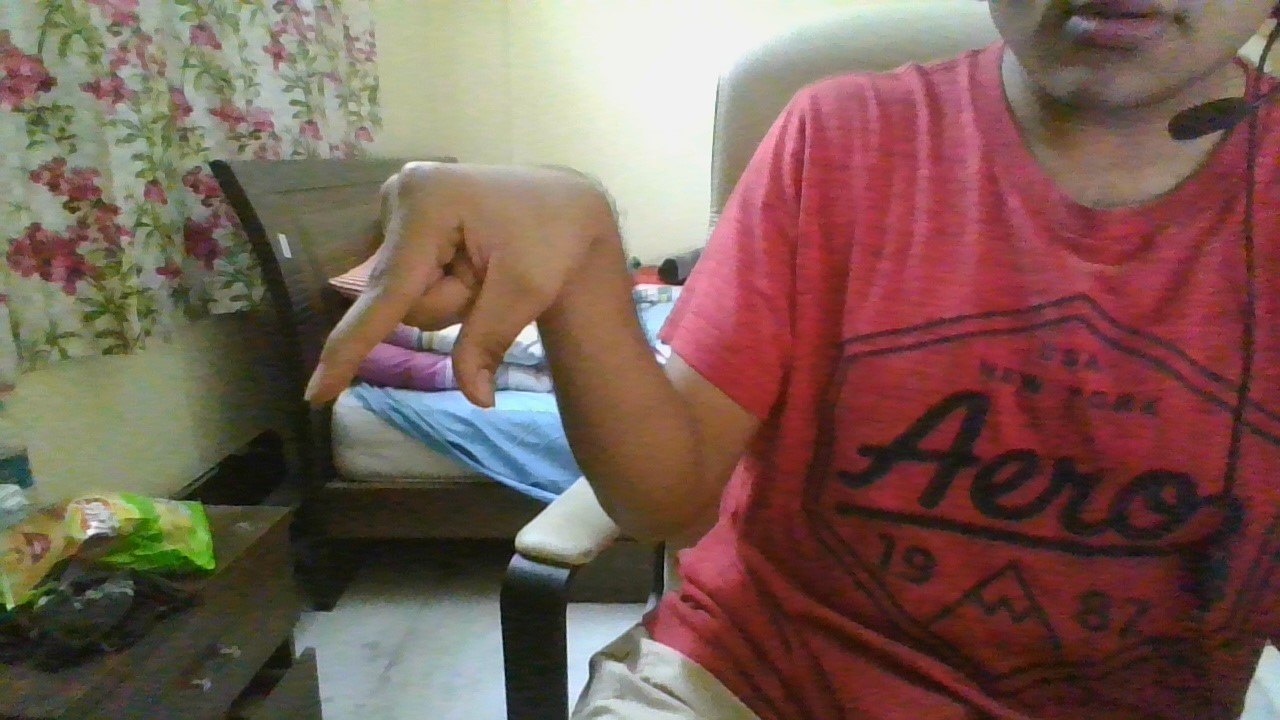q: (300, 153, 611, 412)
